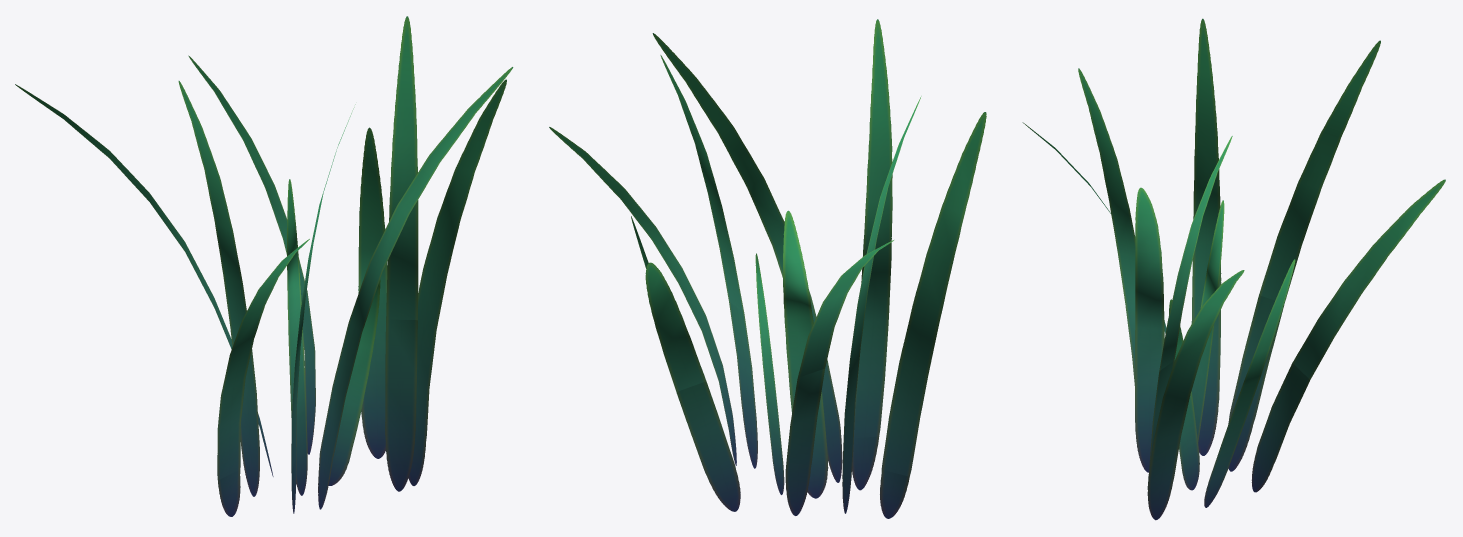
The model's file is grass.fbx.
The picture shows the model from 3 angles, left to right: view 1: azimuth 30°, elevation 25°; view 2: azimuth 150°, elevation 25°; view 3: azimuth 270°, elevation 25°; orthographic projection. The views are drawn at different scales.
Parts seen in each view (by area): view 1: GrassBush_LOD0; view 2: GrassBush_LOD0; view 3: GrassBush_LOD0.
Boxes of the visible parts, bbox=[...] form: GrassBush_LOD0: bbox=[15, 16, 513, 516]; GrassBush_LOD0: bbox=[549, 19, 986, 518]; GrassBush_LOD0: bbox=[1022, 18, 1445, 520].
Size of what is drawn, in the model's own units: 35.43 by 35.9 by 33.68.
